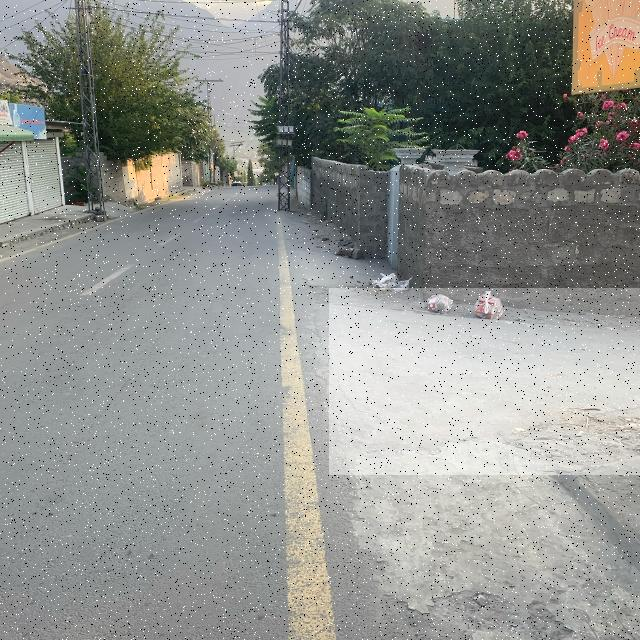left: (329, 288, 640, 475)
